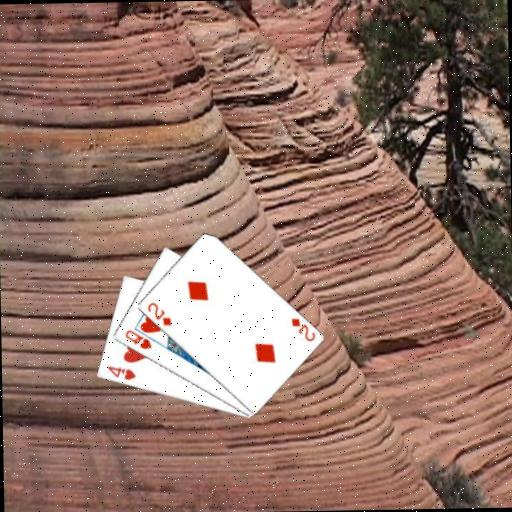2D: (144, 299, 173, 328), (288, 315, 317, 344)
4H: (105, 363, 138, 382)
QH: (122, 327, 154, 351)
